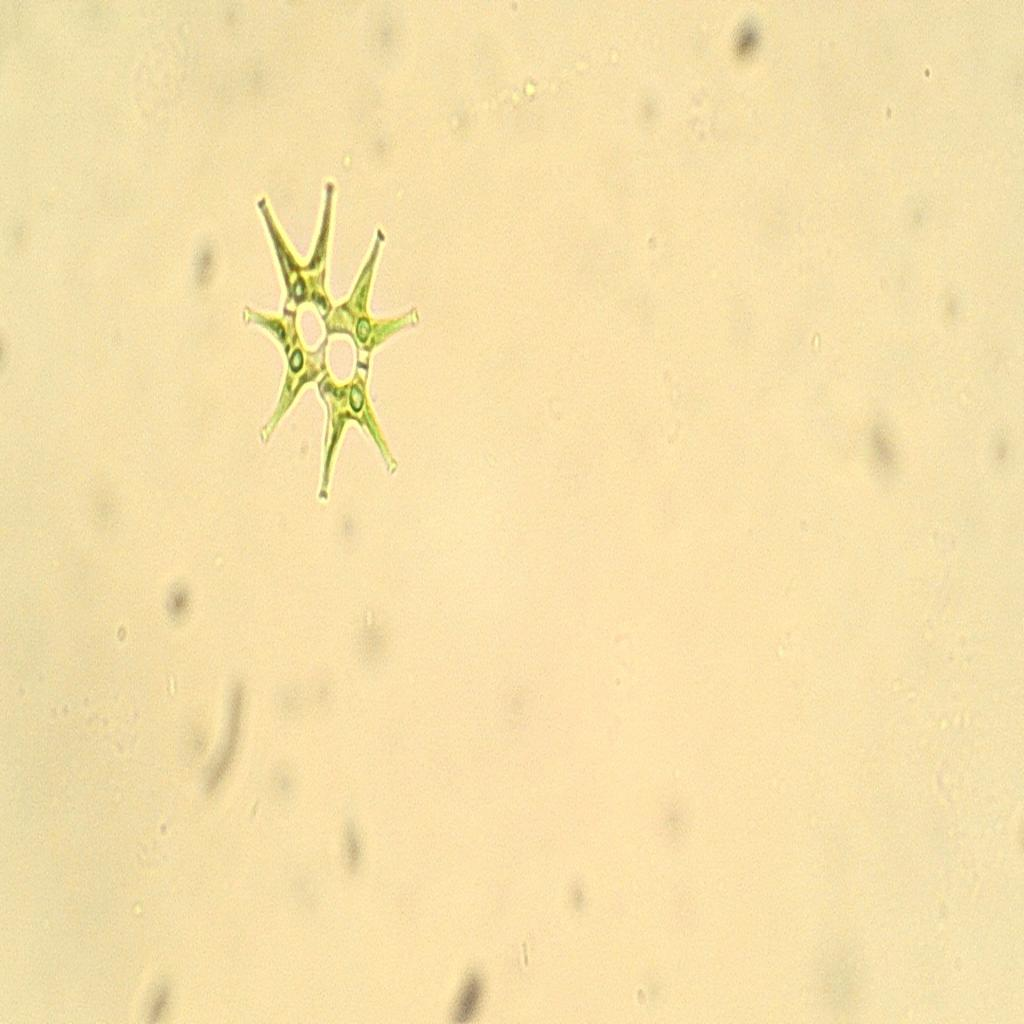Pediastrum_CF: (206, 165, 448, 516)
